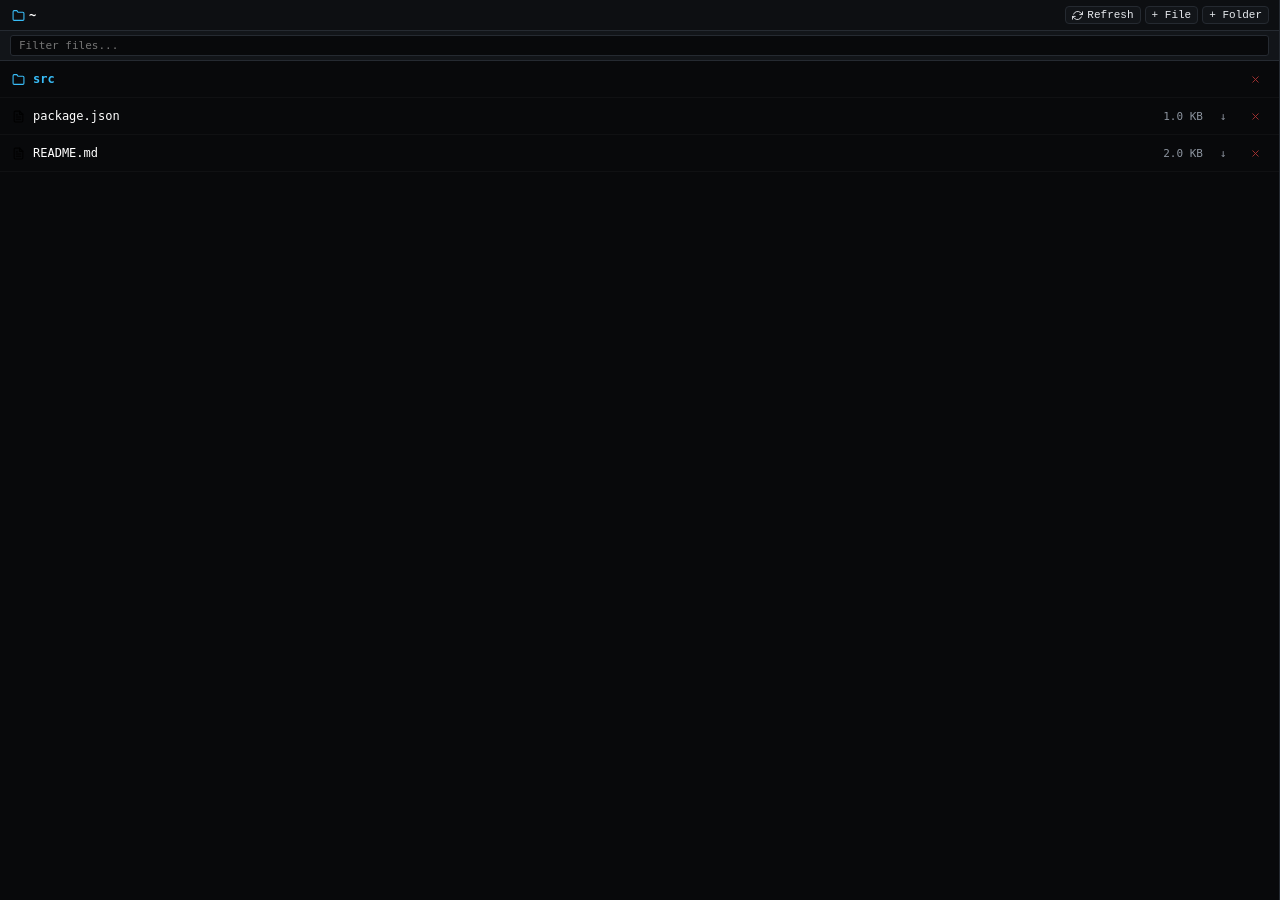
Scenario: WorkspaceFilesPanel Component › reverts content and exits edit mode on Escape key
Click the text "package.json" at (76, 116), box [33,109,120,123]
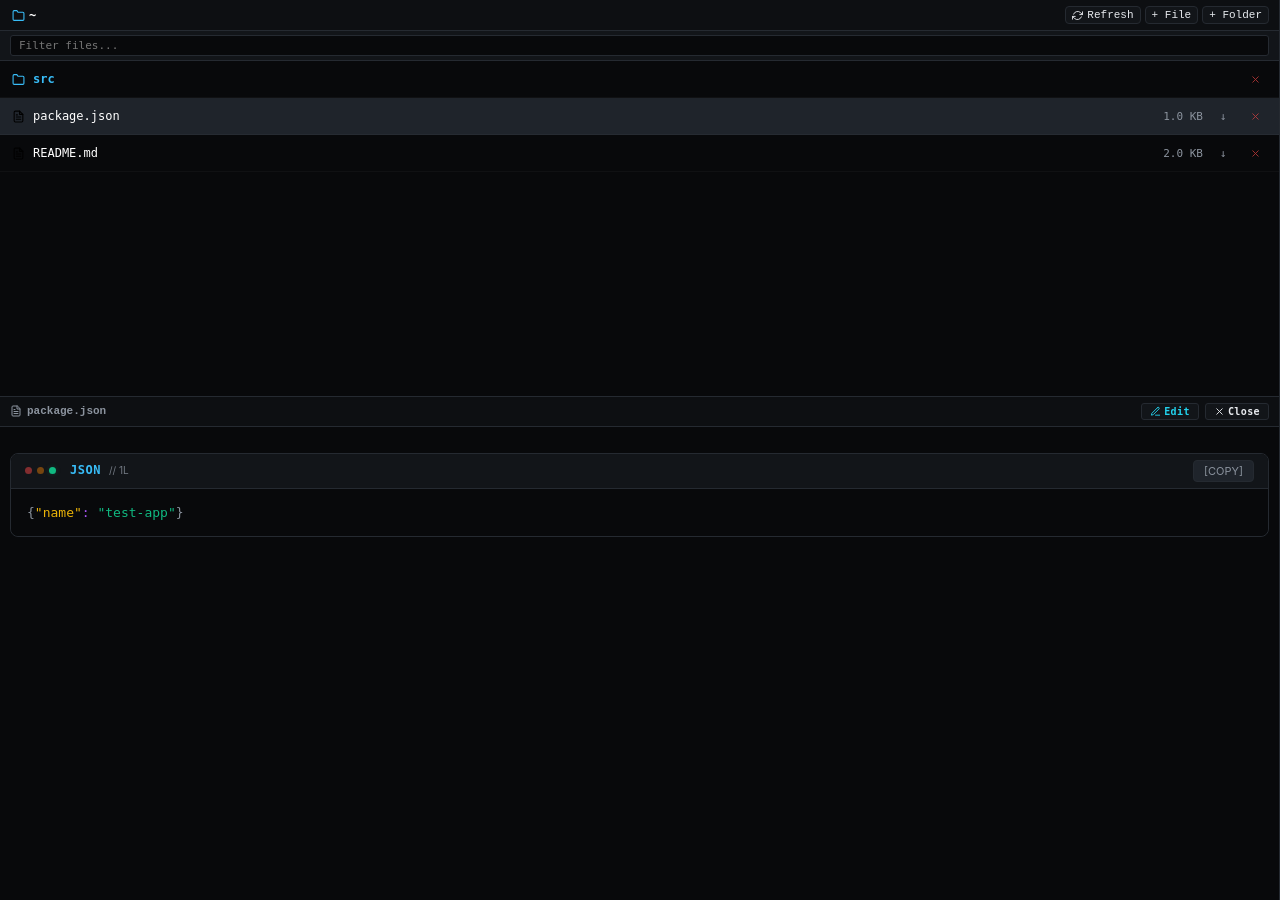
Click the button "Edit" at (1170, 411), box [1141,403,1199,420]
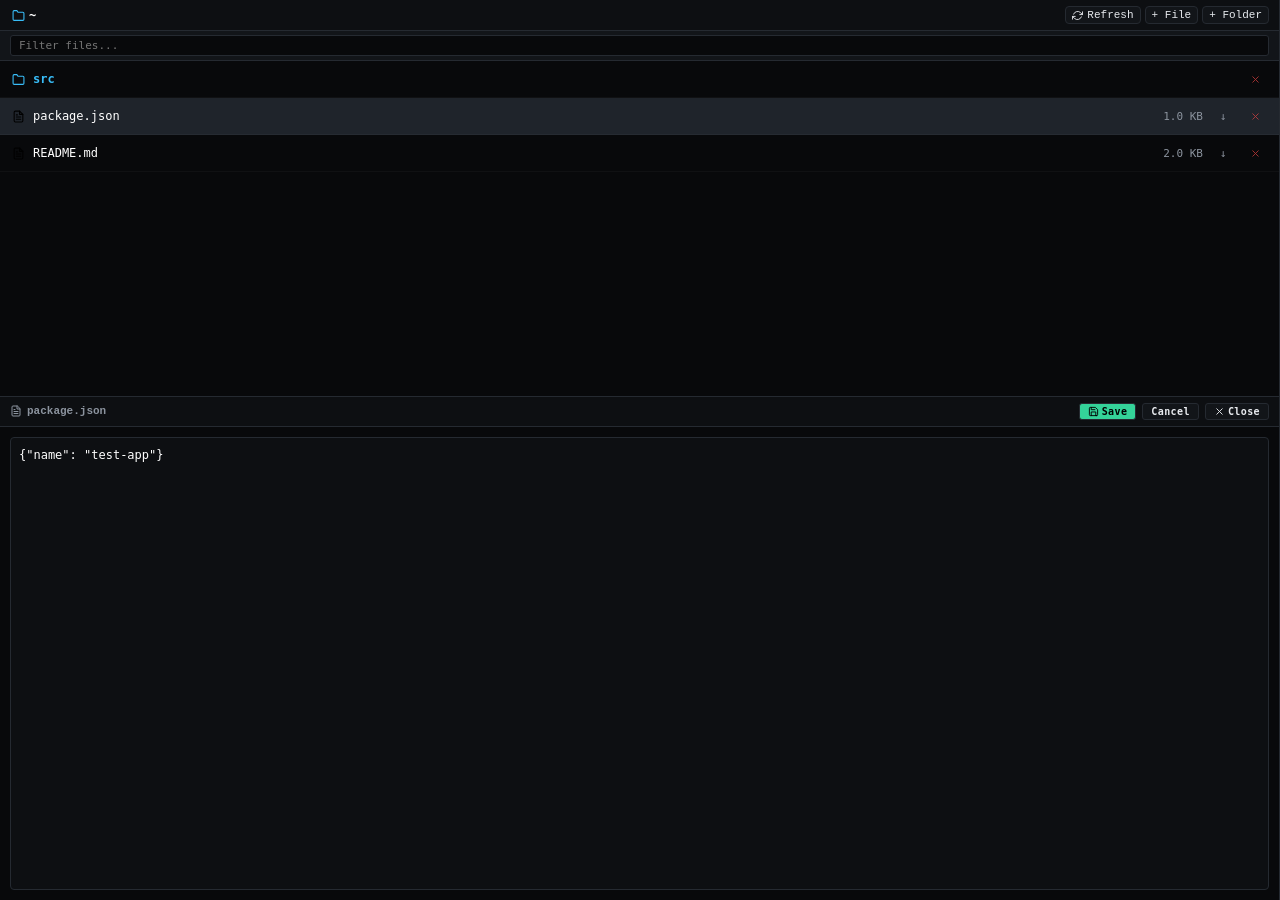
Replace the text in the text box named "file content editor" with "temporary unsaved changes" at (640, 663), box [10,437,1269,890]
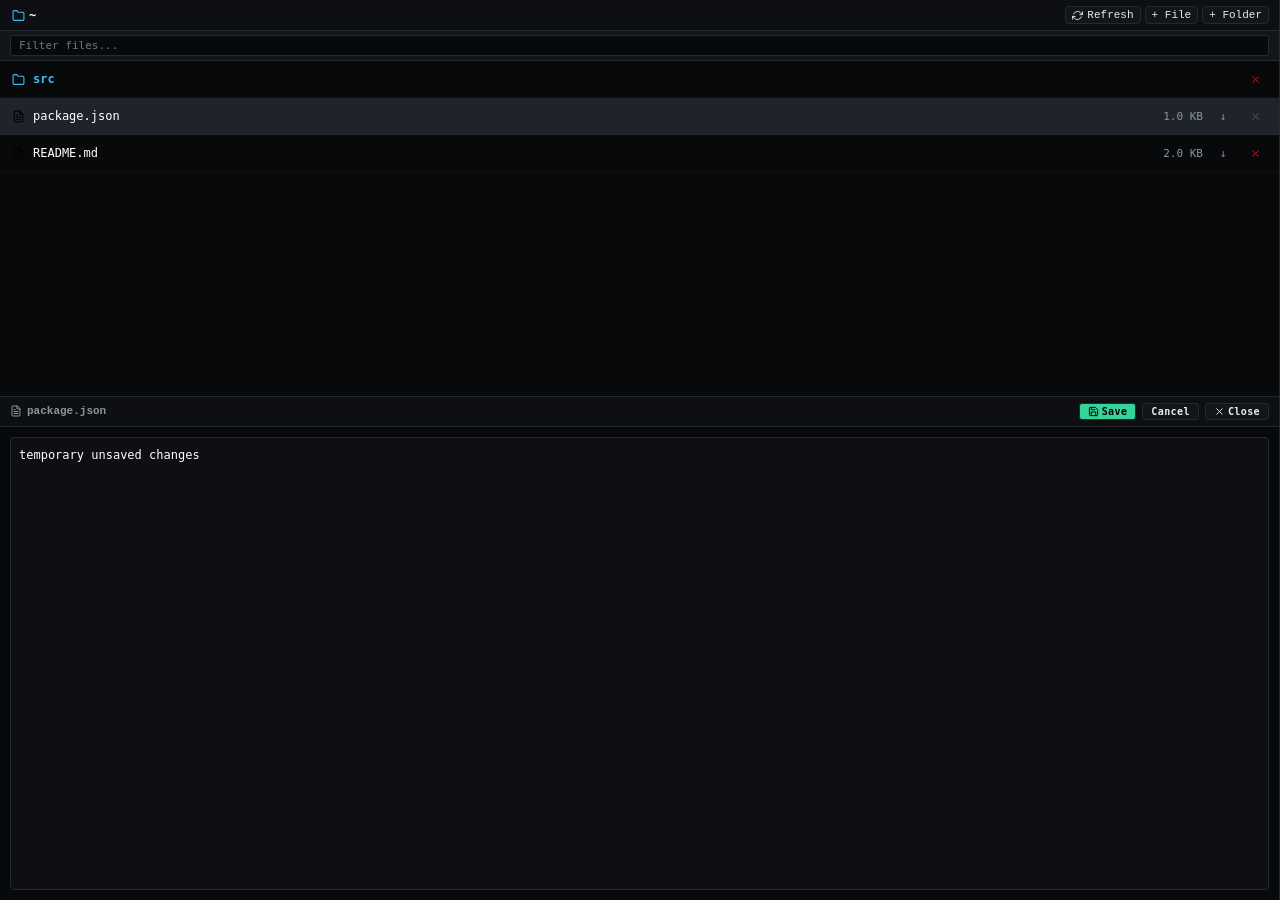
# Press Escape
Press Escape in the text box named "file content editor", box [10,437,1269,890]
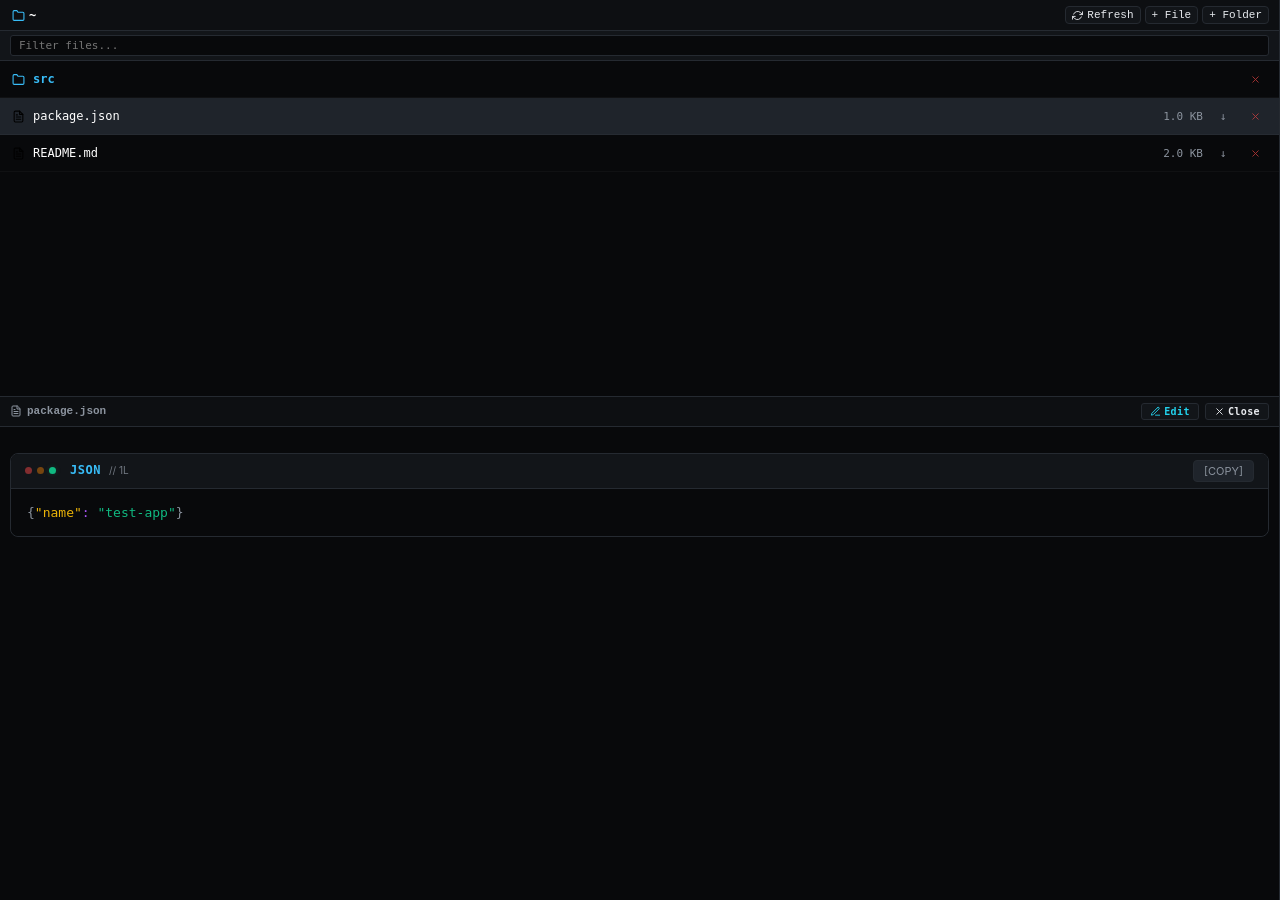
Now the button "Edit" is shown, box [1141,403,1199,420]
